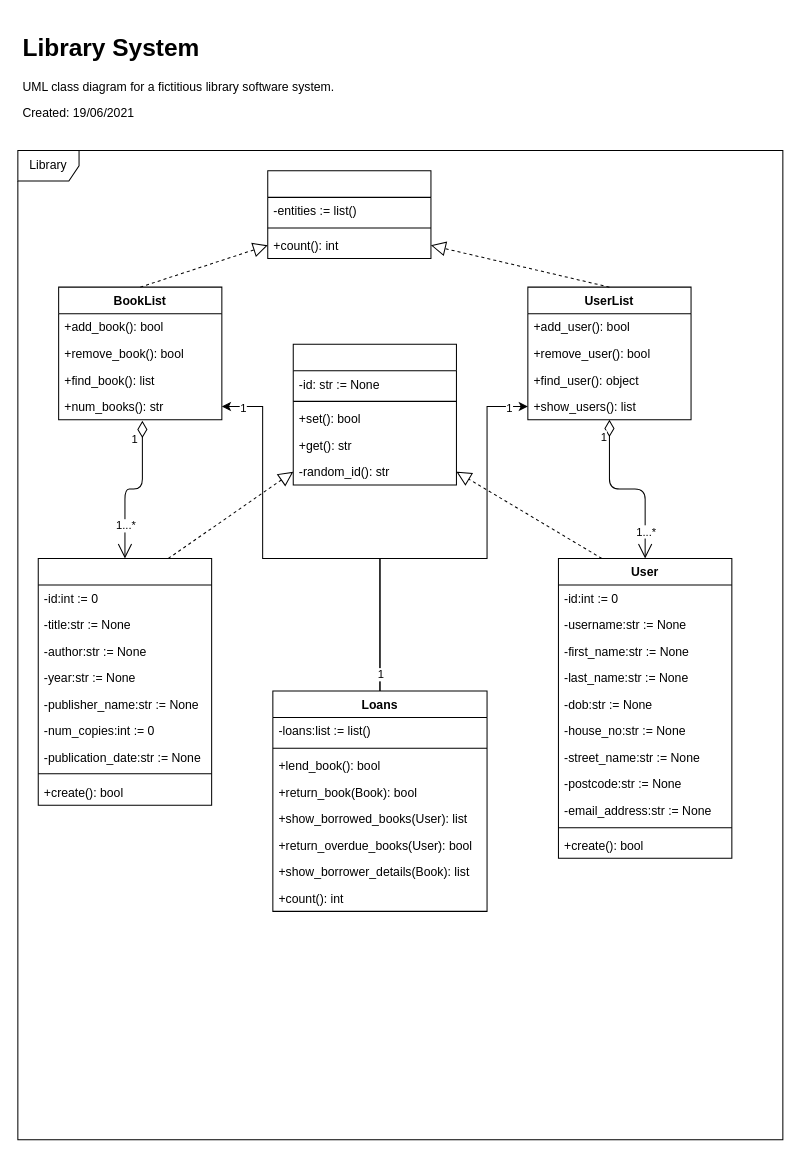
Image size: 801x1158. Some labels were removed from this diagram. The shapes that lost their labels are listed below. From the top down, each one's box as (x1, y1, x2, y2) in pixels, then its label:
(267, 170, 431, 259): EntityList
(292, 343, 456, 485): Entity
(37, 557, 212, 805): Book
